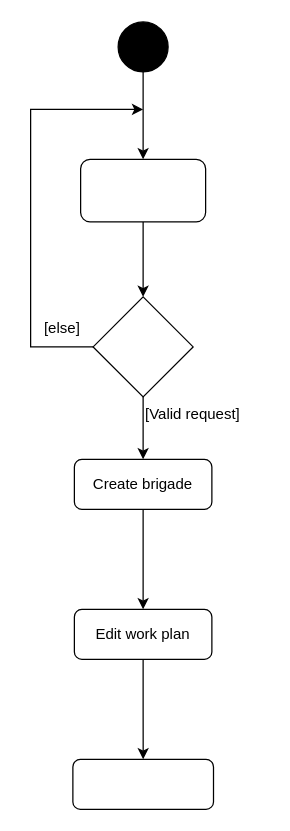
Some shapes in this 290 by 831 pixel diagram are drawn without their labels. Here are the shapes that lost their labels. From the top down, the centre of each, then its label:
At pixel 142 190: "Send request".
At pixel 143 783: "Do the task".
